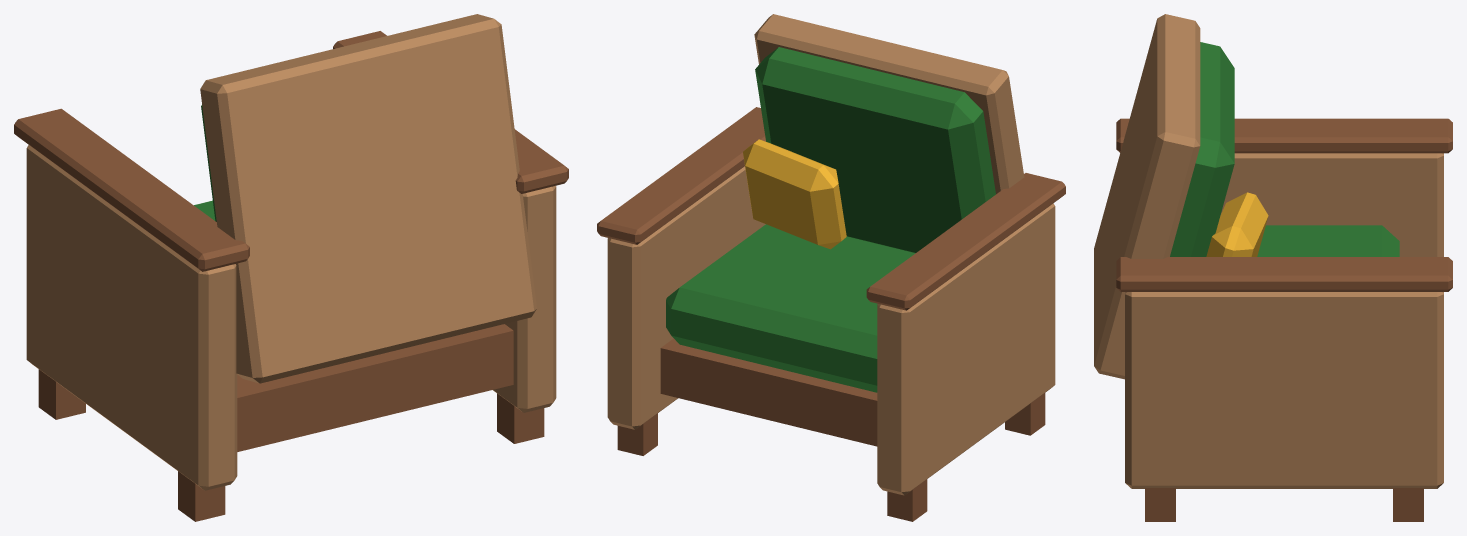
File: seat_reading-chair_v2.glb
3 views of the same model, side by side, from view 1: azimuth 30°, elevation 25°; view 2: azimuth 150°, elevation 25°; view 3: azimuth 270°, elevation 25° (orthographic). The views are drawn at different scales.
Visible parts, largest first — view 1: body; view 2: body; view 3: body.
Part boxes in pixels (x1,y1,x2,y2): body: (14, 14, 568, 521); body: (597, 14, 1065, 521); body: (1094, 14, 1452, 521).
Bounding box in the file's own units: 0.86 × 0.9293 × 0.8099.
